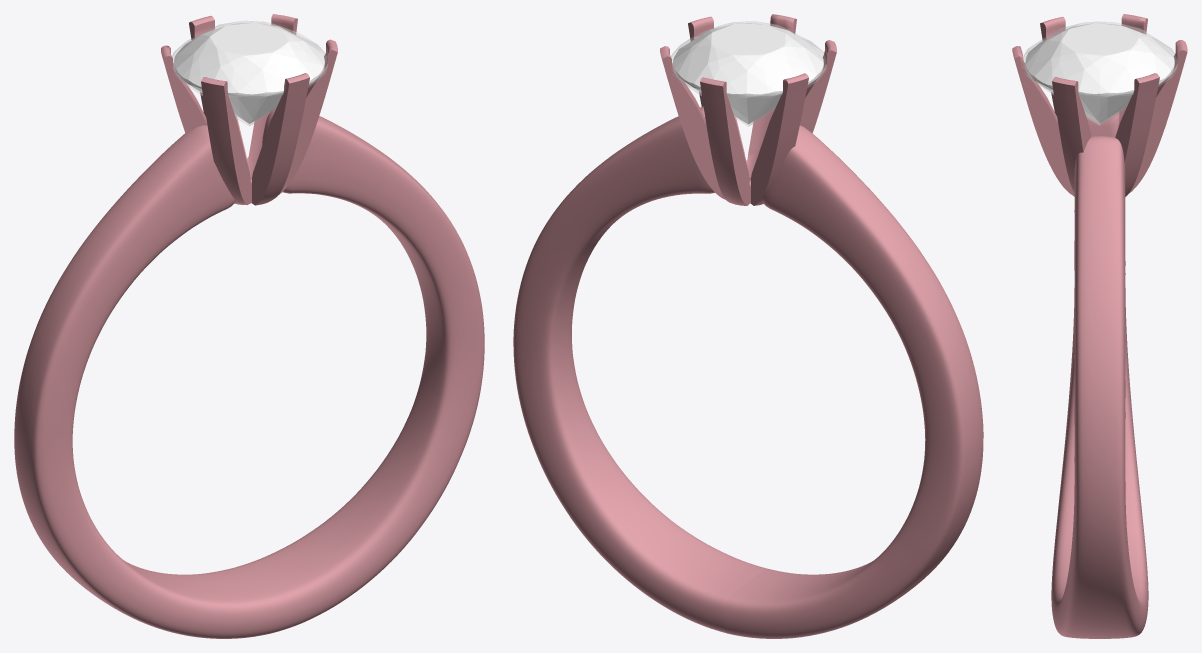
File: roasering.glb
3 views of the same model, side by side, from view 1: azimuth 30°, elevation 25°; view 2: azimuth 150°, elevation 25°; view 3: azimuth 270°, elevation 25° (orthographic).
Parts seen in each view (by area): view 1: corona_7, diamond, diamond001; view 2: corona_7, diamond, diamond001; view 3: corona_7, diamond, diamond001.
Part boxes in pixels (x1,y1,x2,y2): corona_7: (14, 14, 484, 638); diamond: (172, 21, 327, 126); diamond001: (174, 22, 324, 123); corona_7: (513, 14, 983, 638); diamond: (671, 21, 826, 126); diamond001: (673, 23, 823, 124); corona_7: (1012, 14, 1187, 638); diamond: (1023, 22, 1177, 125); diamond001: (1025, 23, 1174, 123).
Size of the model in its own units: 2.47 by 3.03 by 0.8338.
3 materials, 1 textured.
